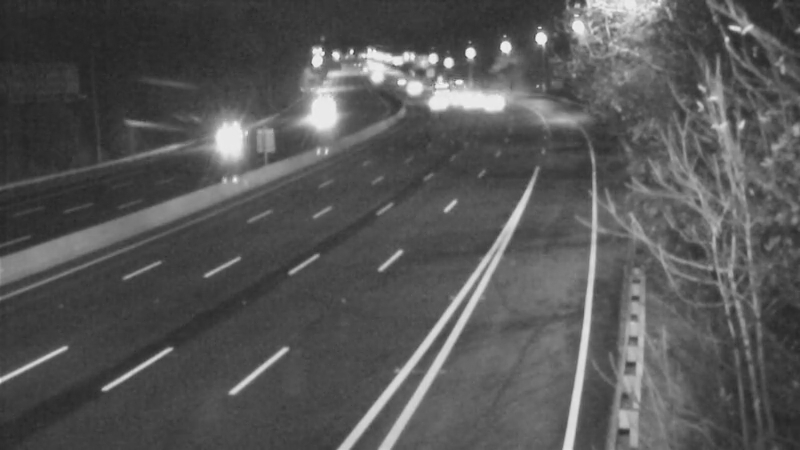vehicle: (384, 62, 434, 112), (433, 64, 483, 114), (466, 75, 516, 125), (438, 78, 488, 128), (410, 77, 460, 127), (202, 112, 252, 162), (294, 90, 344, 140)
